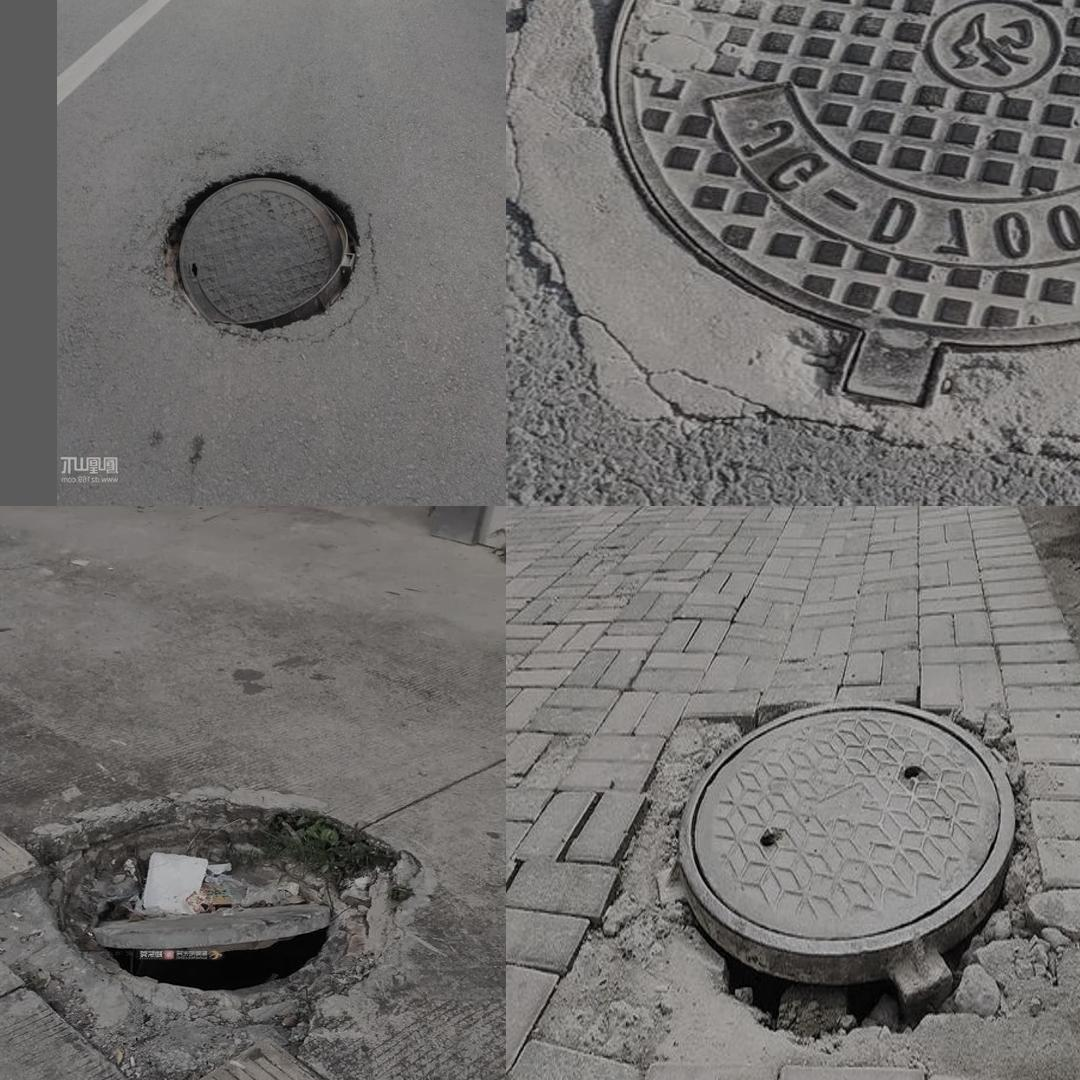circle: (538, 0, 1080, 439), (546, 701, 1080, 1065), (0, 779, 453, 1080), (140, 157, 391, 346)
